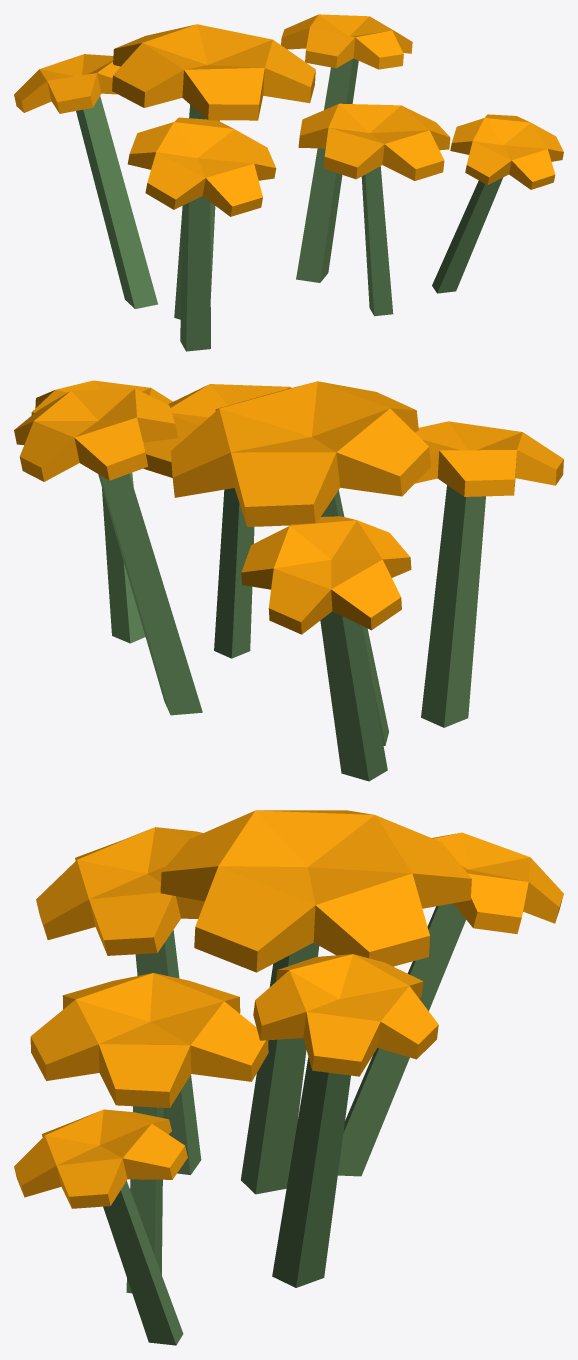
File: SM_Env_FlowerPatch_01.obj
3 renders of one model, top to bottom at view 1: azimuth 30°, elevation 25°; view 2: azimuth 150°, elevation 25°; view 3: azimuth 270°, elevation 25°, orthographic. The views are drawn at different scales.
Visible parts, largest first — view 1: SM_Env_FlowerPatch_01_0; view 2: SM_Env_FlowerPatch_01_0; view 3: SM_Env_FlowerPatch_01_0.
Part boxes in pixels (<box>): SM_Env_FlowerPatch_01_0: <box>14,14,563,351</box>; SM_Env_FlowerPatch_01_0: <box>14,380,563,781</box>; SM_Env_FlowerPatch_01_0: <box>14,810,563,1345</box>.
Bounding box in the file's own units: 0.5849 × 0.3465 × 0.4724.
1 material, 1 textured.
